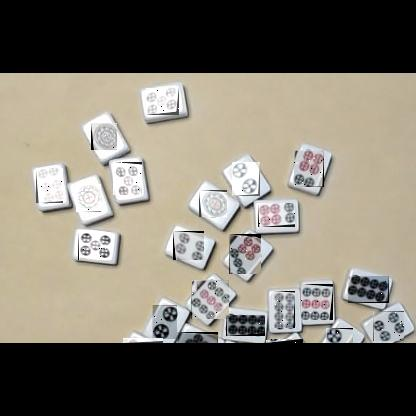1p: (199, 190, 227, 217), (91, 123, 117, 150), (76, 184, 101, 212)
2p: (232, 162, 260, 196), (152, 305, 177, 339), (326, 328, 353, 343)
4p: (373, 311, 404, 341), (173, 231, 204, 260)
5p: (78, 230, 111, 260), (113, 162, 142, 195), (146, 88, 179, 115)
6p: (294, 150, 324, 187), (36, 168, 63, 203), (258, 203, 295, 227)
7p: (229, 234, 261, 274), (177, 332, 218, 343), (123, 338, 163, 343)
8p: (348, 276, 389, 303), (272, 291, 295, 328), (226, 315, 265, 336), (266, 339, 303, 343)
9p: (191, 280, 229, 319), (301, 284, 333, 320)
